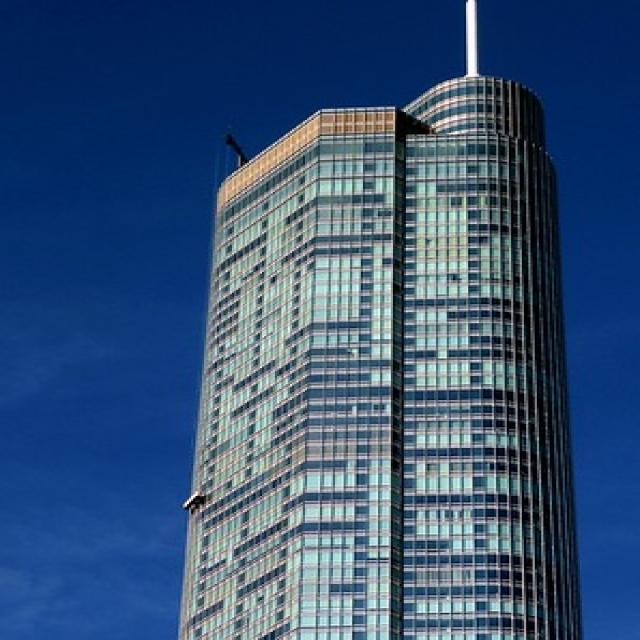Normal_building: (170, 70, 584, 640)
